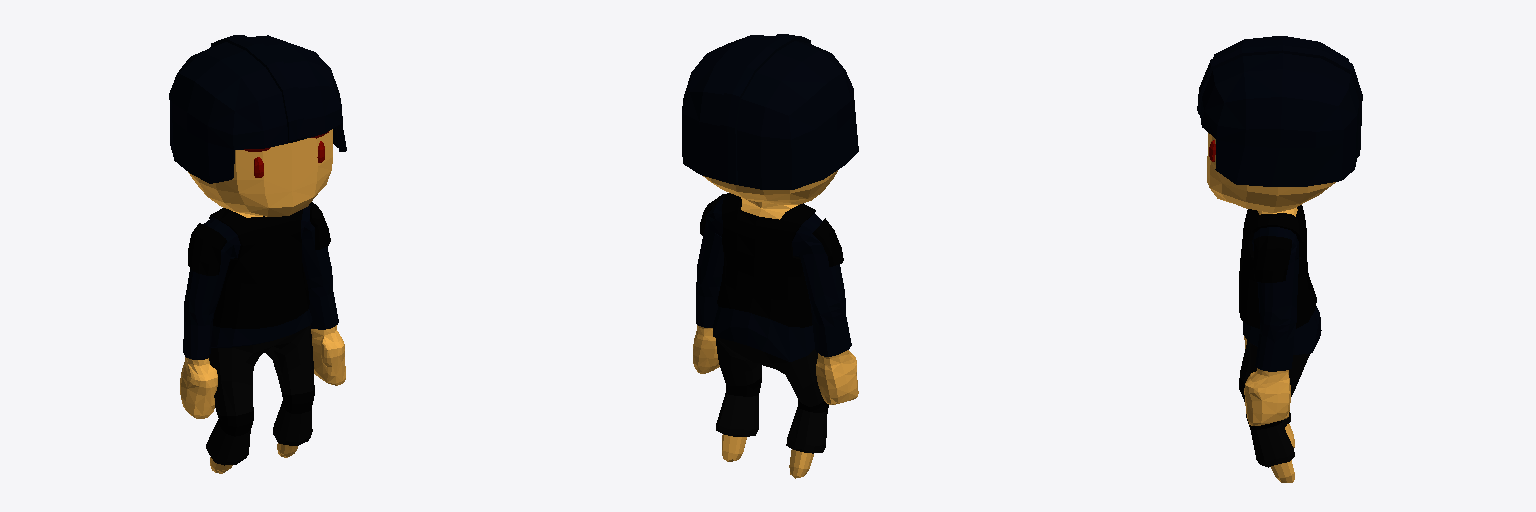
Rendered from policia.obj.
The picture shows the model from 3 angles: view 1: azimuth 30°, elevation 25°; view 2: azimuth 150°, elevation 25°; view 3: azimuth 270°, elevation 25°; orthographic projection.
Visible parts, largest first — view 1: Body; view 2: Body; view 3: Body.
Part boxes in pixels (left/top/right/bottom): Body: left=169, top=35, right=346, bottom=473; Body: left=682, top=34, right=858, bottom=478; Body: left=1197, top=36, right=1362, bottom=482.
Size of the model in its own units: 1.28 by 3.24 by 1.15.